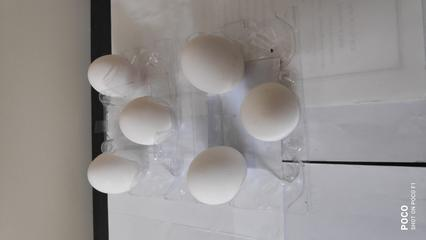eggs: (177, 31, 294, 195), (77, 61, 153, 189)
